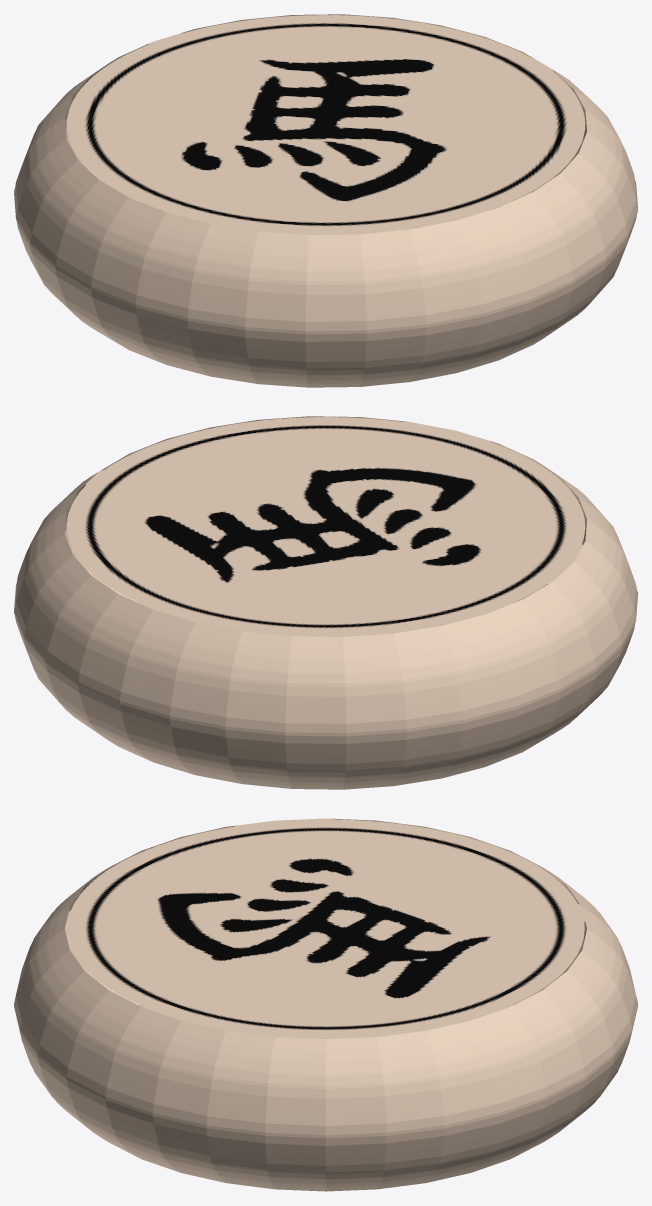
Rendered from black_knight.fbx.
3 renders of one model, top to bottom at view 1: azimuth 30°, elevation 25°; view 2: azimuth 150°, elevation 25°; view 3: azimuth 270°, elevation 25°, orthographic.
Parts seen in each view (by area): view 1: Black Knight; view 2: Black Knight; view 3: Black Knight.
Part boxes in pixels (x1,y1,x2,y2): Black Knight: [14, 14, 637, 387]; Black Knight: [14, 416, 637, 789]; Black Knight: [14, 818, 637, 1191].
Bounding box in the file's own units: 245 × 66.11 × 245.
2 materials, 1 textured.
